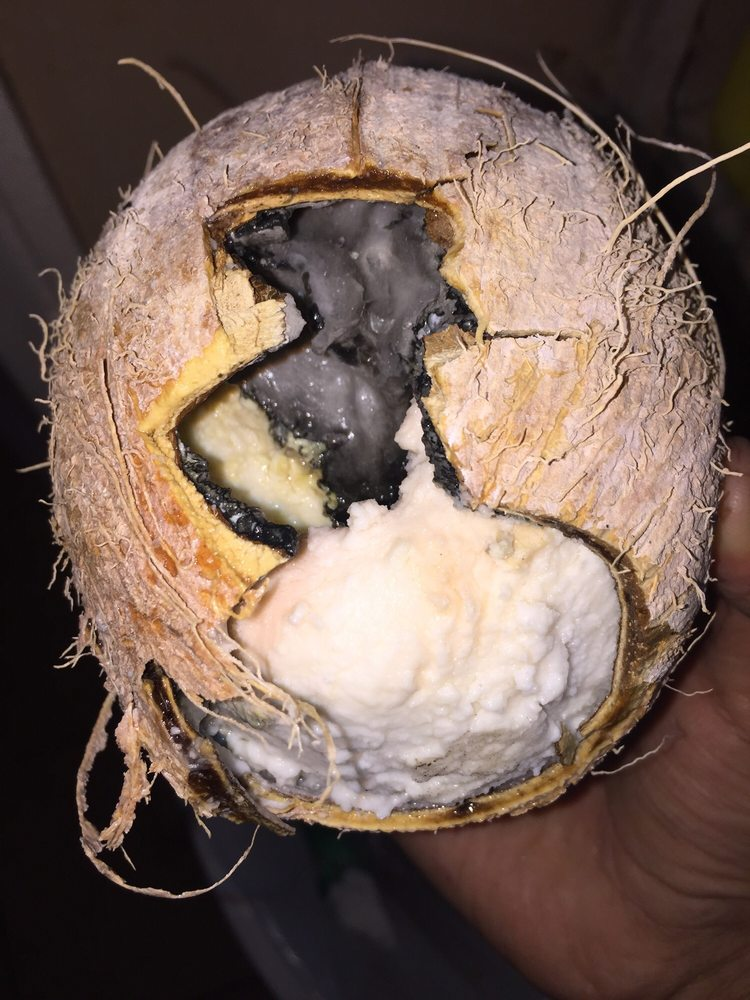damaged_coconut: (57, 68, 708, 829)
